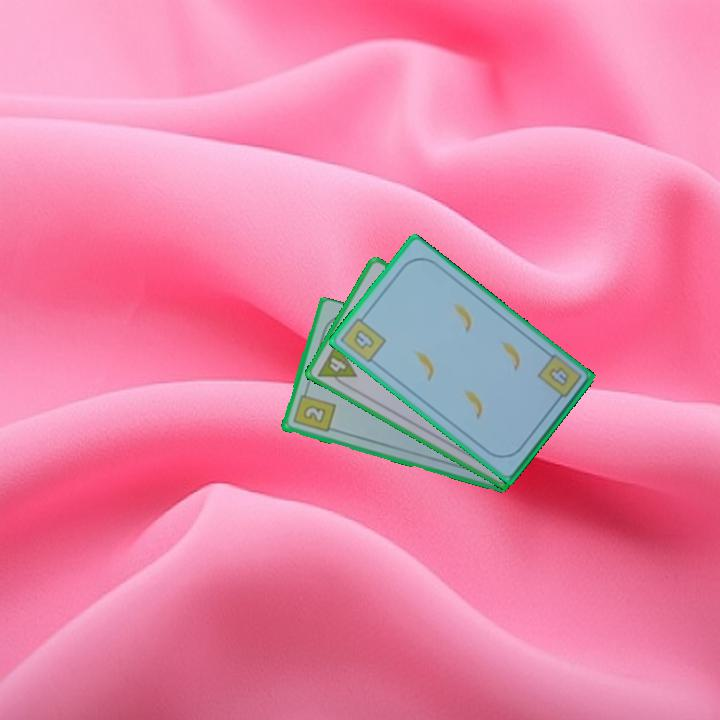2b: (289, 386, 338, 435)
4b: (336, 310, 389, 366), (544, 364, 572, 390)
4p: (314, 338, 359, 392)
